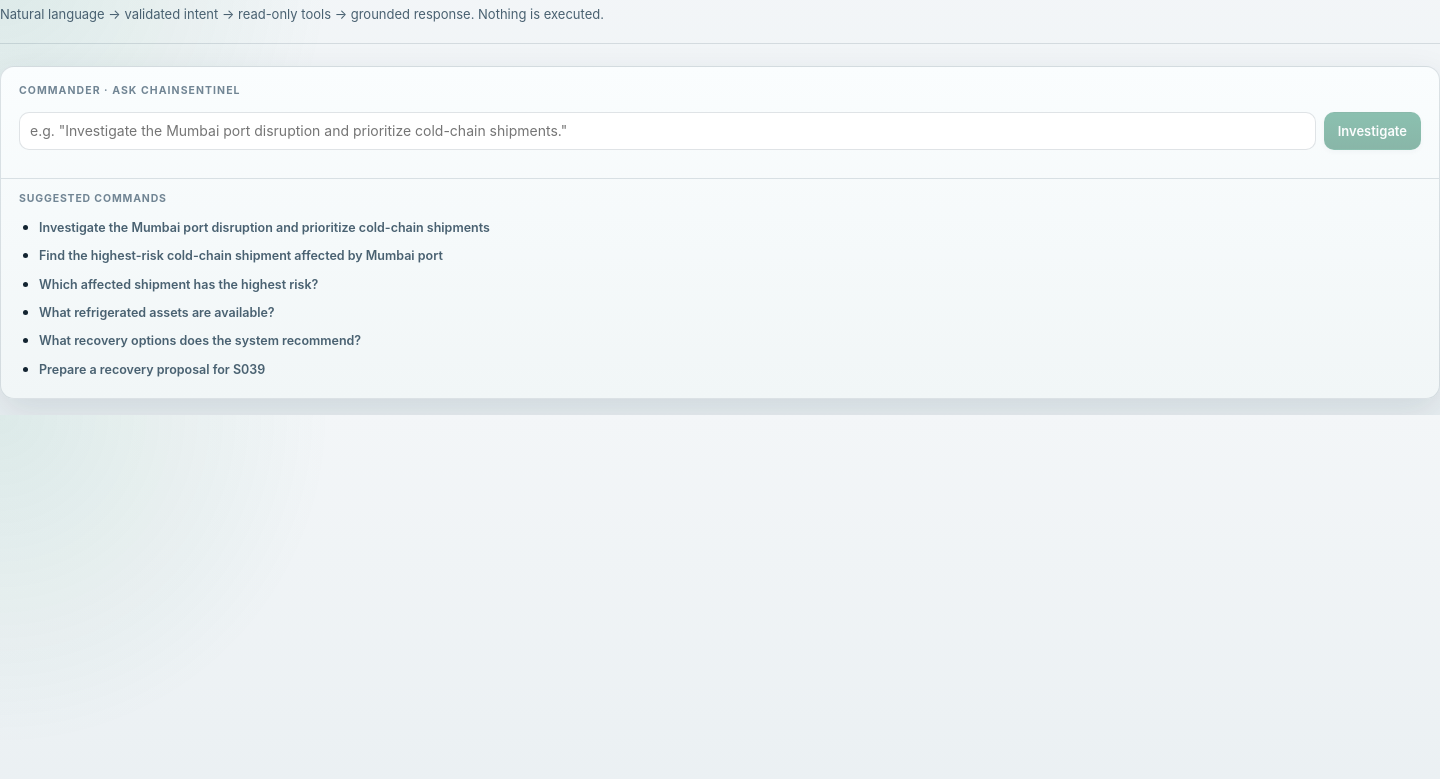
Test case: AI Incident Commander screen › renders a proposal with pending human approval and a link to the decision surface
The image size is (1440, 779).
Replace the text in the field with placeholder "Investigate the Mumbai" with "Prepare a recovery proposal for S039." at (667, 131), box 19,112 -> 1316,150
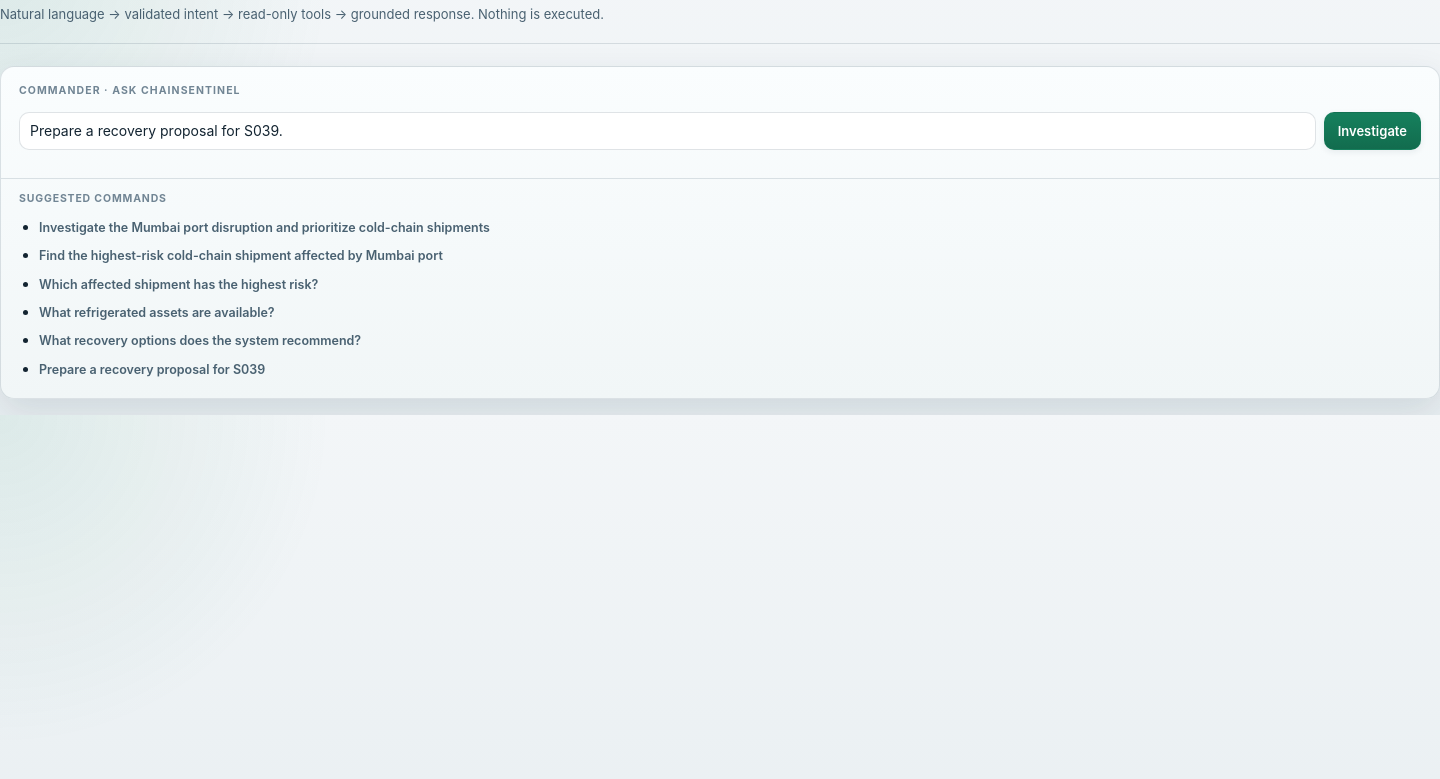
Click the button "Investigate".
click(1372, 131)  # box 1324,112 -> 1421,150
(page scrolled)
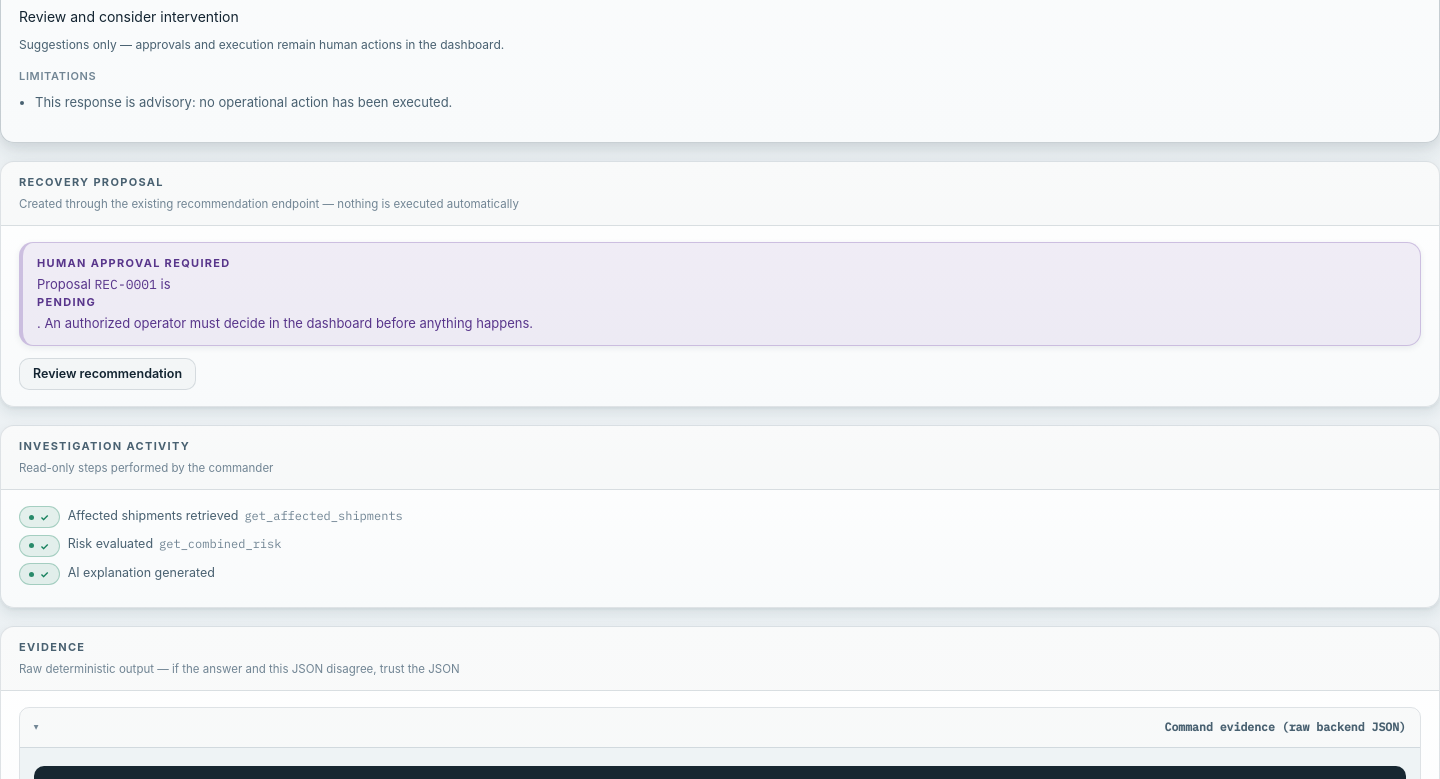
Expected: the text "Human approval required" is shown, 37,256 -> 231,270
Expected: the text "REC-0001" is shown, 94,276 -> 157,292
